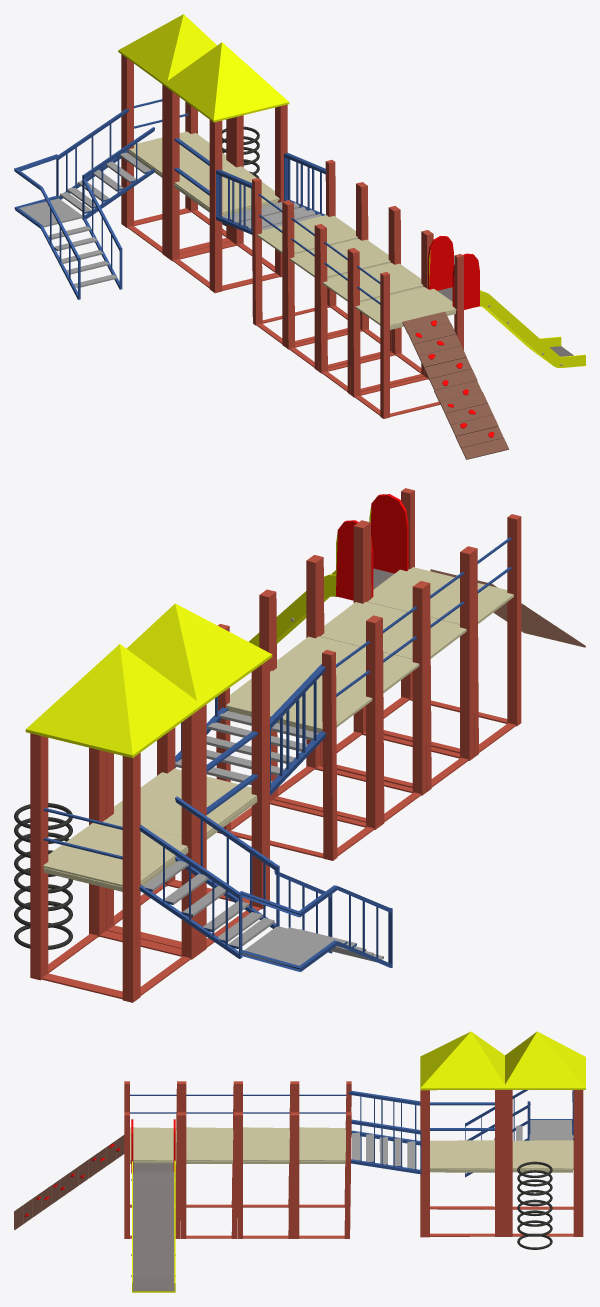
Rendered from MainPlayGround.fbx.
3 views of the same model, one above another, from view 1: azimuth 30°, elevation 25°; view 2: azimuth 150°, elevation 25°; view 3: azimuth 270°, elevation 25° (orthographic). The views are drawn at different scales.
Visible parts, largest first — view 1: Object004, Object004.001, AAAA.003, AAAA.002, AAAA.001, AAAA.004, Object001, Object002.002, Object002, Object002.001, Object004.003, Object004.002 (+6 smaller); view 2: Object004.001, Object004, AAAA.004, AAAA.001, AAAA.002, AAAA.003, Object002, Object001, Object002.002, Object004.002, Object002.001, Object004.003; view 3: Object004.001, Object004, Object001, AAAA.001, AAAA.002, AAAA.004, AAAA.003, Object002.001, Object004.003, Object004.002, Object002.002, Object002.
Part boxes in pixels (<box>): Object004: <box>164,42,289,293</box>; Object004.001: <box>118,14,231,256</box>; AAAA.003: <box>350,231,463,418</box>; AAAA.002: <box>317,207,429,394</box>; AAAA.001: <box>284,183,397,370</box>; AAAA.004: <box>252,160,364,346</box>; Object001: <box>428,236,585,367</box>; Object002.002: <box>14,154,122,299</box>; Object002: <box>56,108,154,219</box>; Object002.001: <box>216,153,326,234</box>; Object004.003: <box>174,164,279,216</box>; Object004.002: <box>129,131,230,177</box>; Object004.001: <box>25,644,257,1002</box>; Object004: <box>106,603,272,954</box>; AAAA.004: <box>216,592,379,860</box>; AAAA.001: <box>263,558,426,826</box>; AAAA.002: <box>310,523,473,791</box>; AAAA.003: <box>357,488,521,757</box>; Object002: <box>139,796,279,958</box>; Object001: <box>249,494,408,646</box>; Object002.002: <box>239,870,392,971</box>; Object004.002: <box>43,819,188,891</box>; Object002.001: <box>175,664,326,795</box>; Object004.003: <box>107,768,257,839</box>; Object004.001: <box>430,1031,585,1236</box>; Object004: <box>420,1031,507,1237</box>; Object001: <box>131,1119,175,1292</box>; AAAA.001: <box>237,1081,295,1238</box>; AAAA.002: <box>181,1081,238,1238</box>; AAAA.004: <box>294,1081,351,1238</box>; AAAA.003: <box>124,1081,182,1238</box>; Object002.001: <box>348,1091,421,1174</box>; Object004.003: <box>430,1140,494,1172</box>; Object004.002: <box>512,1140,573,1172</box>; Object002.002: <box>465,1090,573,1177</box>; Object002: <box>527,1101,573,1140</box>.
Size of the model in its own units: 482 by 323 by 879.
3 materials, 2 textured.
